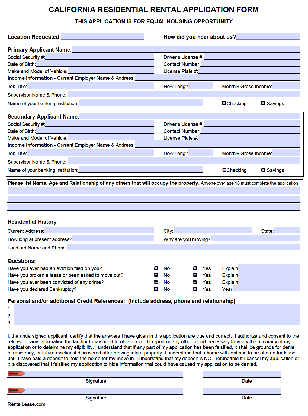checkbox: (260, 168, 266, 173), (261, 101, 266, 106), (222, 168, 227, 173), (222, 101, 227, 105)
textline: (7, 186, 301, 195), (7, 203, 301, 212), (14, 304, 301, 313), (7, 195, 302, 203), (67, 156, 301, 165), (13, 312, 301, 319), (14, 319, 302, 326), (66, 243, 302, 251), (71, 45, 301, 53), (6, 386, 183, 396), (67, 91, 301, 98), (7, 370, 184, 379), (78, 113, 301, 120), (135, 141, 301, 149), (134, 74, 302, 81), (26, 149, 156, 158), (77, 165, 203, 174), (44, 225, 155, 235), (35, 59, 155, 68), (26, 82, 155, 90), (78, 99, 204, 107), (44, 119, 155, 128), (36, 127, 155, 135), (44, 52, 155, 60), (200, 60, 302, 68), (199, 67, 301, 75), (199, 134, 301, 142), (203, 369, 283, 379), (203, 120, 301, 128), (211, 235, 302, 243), (199, 128, 302, 135), (173, 226, 253, 235), (66, 134, 155, 142), (202, 387, 281, 396), (67, 67, 155, 75), (203, 53, 302, 60), (61, 33, 145, 41), (71, 235, 155, 243), (236, 32, 302, 41), (238, 263, 301, 272), (237, 271, 302, 279), (237, 279, 301, 286), (232, 286, 302, 292), (271, 149, 301, 157), (187, 149, 214, 157), (274, 226, 301, 234), (188, 82, 213, 89), (271, 83, 300, 89)
